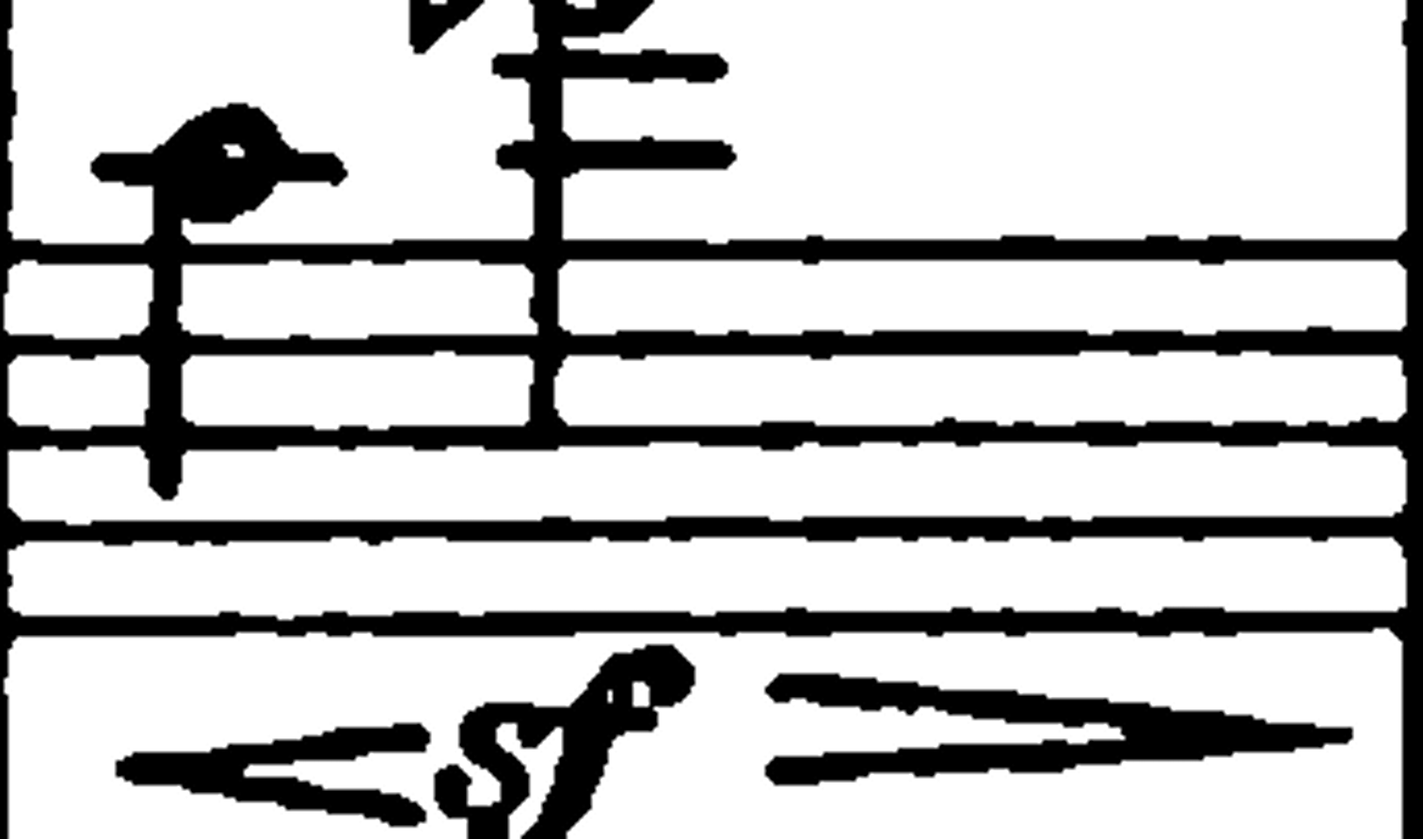beam: (504, 139, 735, 169)
ledgerLine: (529, 0, 571, 4)
noteheadBlackInSpace: (541, 794, 591, 833), (569, 685, 607, 725), (467, 804, 507, 837), (533, 1, 574, 32), (1148, 330, 1184, 350)
noteheadBlackOnLine: (141, 334, 190, 376), (411, 0, 482, 22), (525, 238, 567, 272), (150, 284, 181, 315), (490, 752, 523, 781), (1402, 527, 1423, 560), (1399, 245, 1423, 273), (1402, 346, 1423, 377), (203, 145, 226, 168), (1011, 422, 1035, 439)
restHBar: (339, 418, 1405, 453), (344, 231, 1405, 266), (280, 326, 1334, 361), (339, 603, 1403, 637), (154, 234, 1192, 268), (126, 420, 1192, 452), (767, 741, 1309, 773)
restWhole: (279, 789, 420, 811), (376, 612, 466, 635), (1084, 425, 1140, 445), (492, 54, 535, 77), (1041, 516, 1073, 541), (48, 431, 88, 450), (818, 428, 861, 445), (983, 519, 1010, 540), (56, 433, 88, 450), (413, 438, 447, 450)
